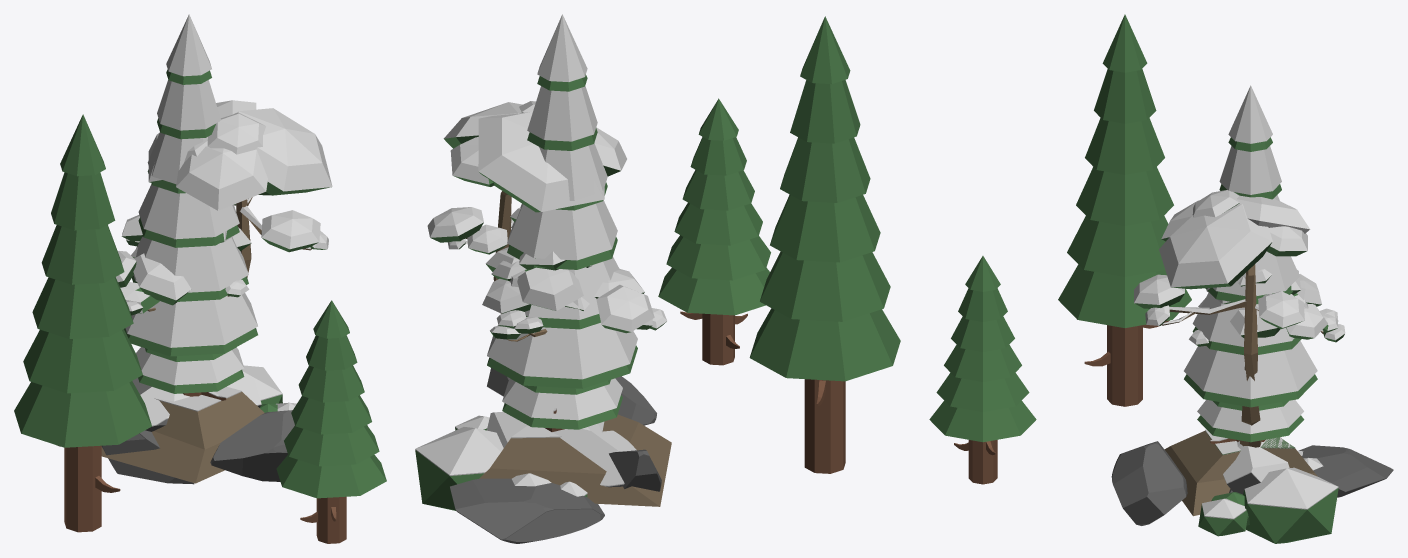
The model's file is Free Low Poly Nature Asset.fbx.
The picture shows the model from 3 angles, left to right: view 1: azimuth 30°, elevation 25°; view 2: azimuth 150°, elevation 25°; view 3: azimuth 270°, elevation 25°; orthographic projection. The views are drawn at different scales.
Visible parts, largest first — view 1: Pine-2, Pine-2-1, Tree-2-1, Pine-1, Terrain-1-1, Tree-1-1, Rock-1, Pine-1-1, Rocks-1, Rock-1-1, Bush-1-1; view 2: Pine-2, Pine-2-1, Pine-1, Tree-2-1, Tree-1-1, Rocks-1, Terrain-1-1, Bush-1-1, Pine-1-1, Rock-1-1, Rock-1; view 3: Pine-2, Tree-2-1, Pine-2-1, Pine-1, Bush-1-1, Rock-1, Terrain-1-1, Tree-1-1, Pine-1-1, Rocks-1, Rock-1-1, Terrain-1.
Part boxes in pixels (left/top/right/bottom): Pine-2: left=14, top=114, right=151, bottom=532; Pine-2-1: left=124, top=14, right=257, bottom=400; Tree-2-1: left=148, top=100, right=332, bottom=277; Pine-1: left=276, top=300, right=386, bottom=543; Terrain-1-1: left=101, top=386, right=264, bottom=483; Tree-1-1: left=116, top=215, right=251, bottom=315; Rock-1: left=210, top=410, right=367, bottom=481; Pine-1-1: left=136, top=347, right=244, bottom=393; Rocks-1: left=101, top=378, right=194, bottom=484; Rock-1-1: left=140, top=376, right=261, bottom=431; Bush-1-1: left=242, top=365, right=296, bottom=411; Pine-2: left=749, top=16, right=900, bottom=473; Pine-2-1: left=487, top=14, right=637, bottom=431; Pine-1: left=658, top=98, right=770, bottom=365; Tree-2-1: left=427, top=101, right=626, bottom=313; Tree-1-1: left=482, top=207, right=666, bottom=341; Rocks-1: left=450, top=449, right=661, bottom=543; Terrain-1-1: left=479, top=414, right=671, bottom=506; Bush-1-1: left=415, top=415, right=587, bottom=510; Pine-1-1: left=502, top=378, right=622, bottom=429; Rock-1-1: left=486, top=412, right=636, bottom=487; Rock-1: left=487, top=368, right=656, bottom=425; Pine-2: left=1058, top=14, right=1191, bottom=406; Tree-2-1: left=1134, top=190, right=1310, bottom=447; Pine-2-1: left=1184, top=85, right=1317, bottom=444; Pine-1: left=929, top=256, right=1036, bottom=484; Bush-1-1: left=1198, top=450, right=1338, bottom=543; Rock-1: left=1111, top=441, right=1187, bottom=525; Terrain-1-1: left=1164, top=429, right=1310, bottom=516; Tree-1-1: left=1189, top=269, right=1345, bottom=346; Pine-1-1: left=1197, top=399, right=1304, bottom=442; Rocks-1: left=1229, top=445, right=1393, bottom=497; Rock-1-1: left=1223, top=439, right=1289, bottom=494; Terrain-1: left=1198, top=431, right=1317, bottom=487.
Bounding box in the file's own units: 8.62 × 10.61 × 10.38.
